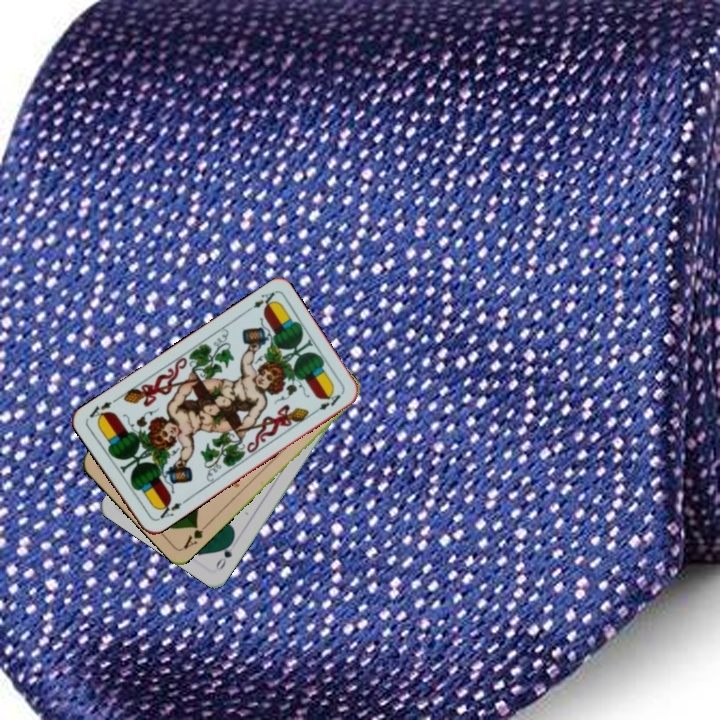EA: (241, 288, 279, 315), (154, 496, 189, 521)
GA: (179, 519, 212, 552)
GO: (212, 535, 236, 573)
